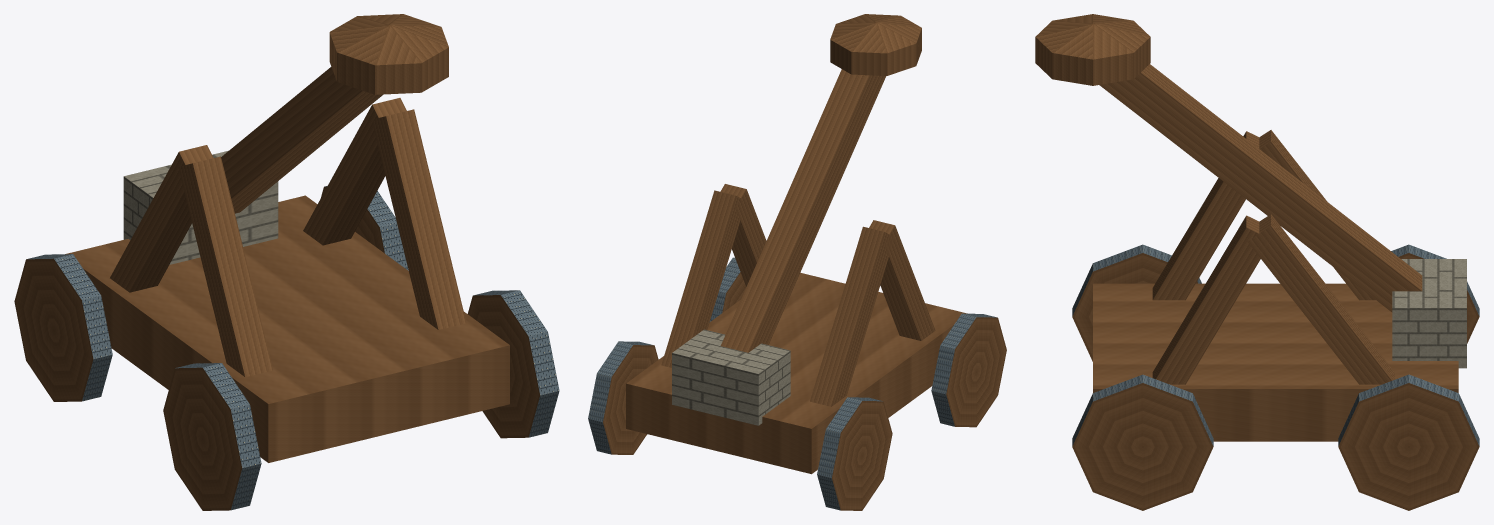
Rendered from unit-CATAPULT-lod1.glb.
3 renders of one model, left to right at view 1: azimuth 30°, elevation 25°; view 2: azimuth 150°, elevation 25°; view 3: azimuth 270°, elevation 25°, orthographic. The views are drawn at different scales.
Bounding box in the file's own units: 0.394 × 0.555 × 0.5343.
Materials: 1 (1 with a texture image).
